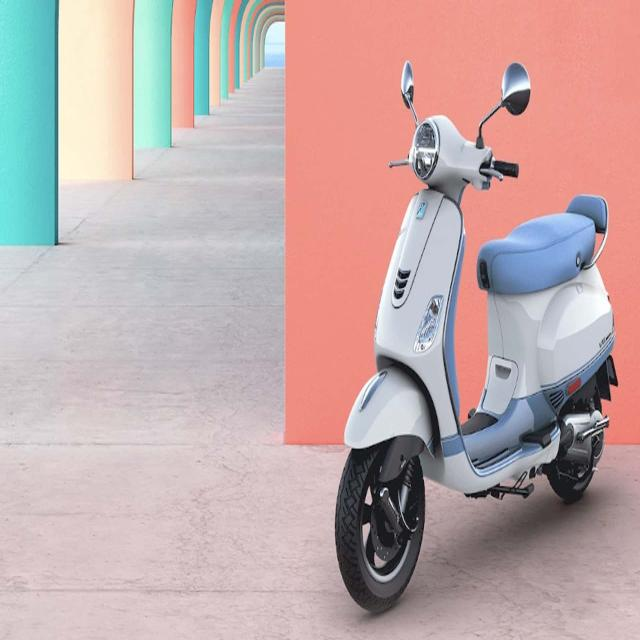motorcycle: (335, 62, 618, 611)
